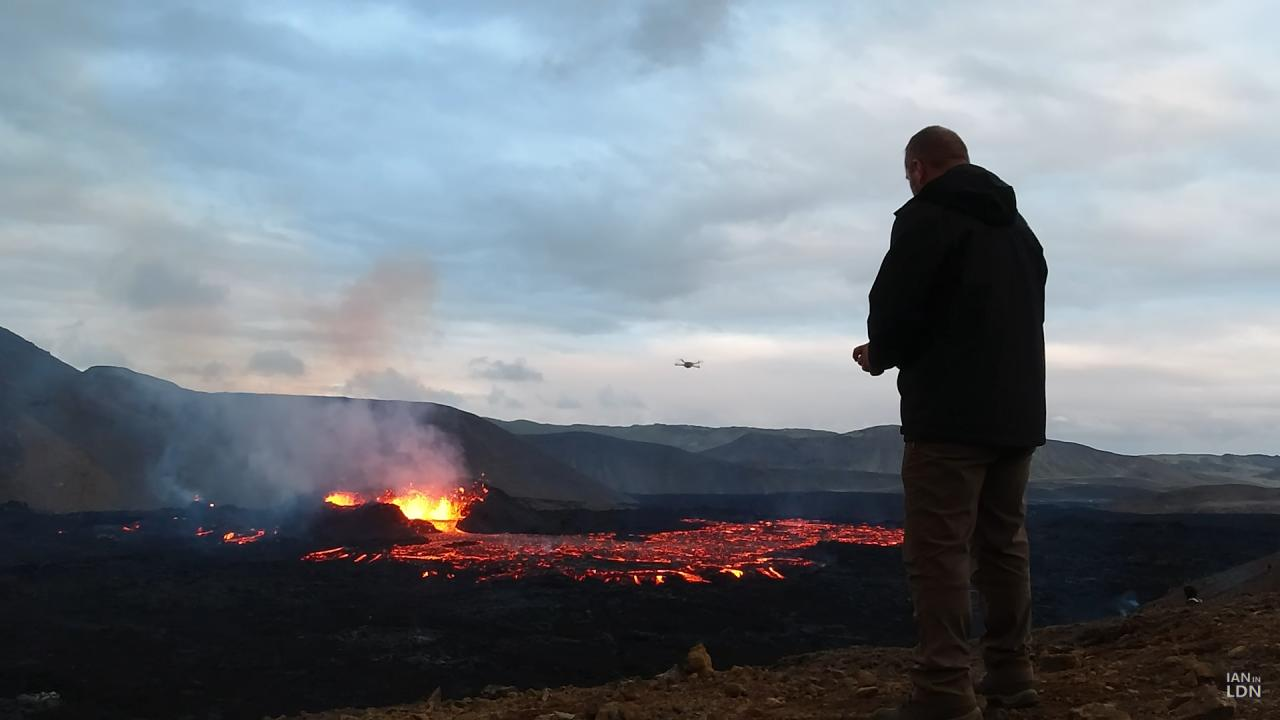Drone: (668, 351, 709, 376)
